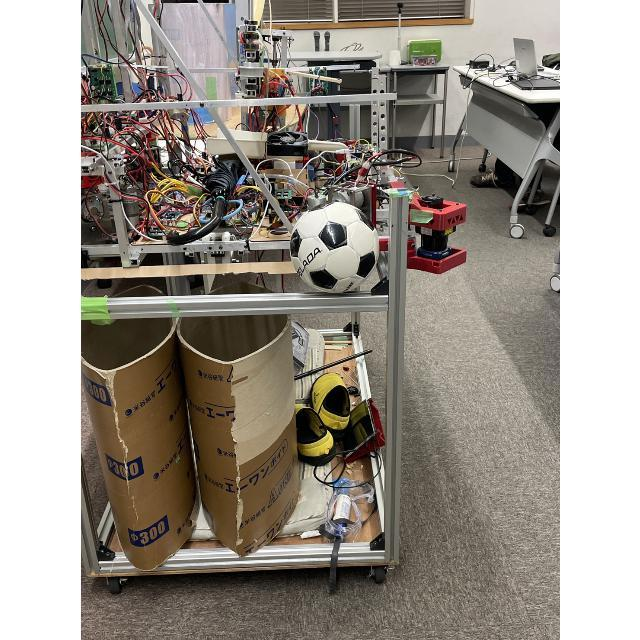ball: (290, 202, 378, 296)
